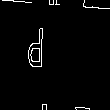P_S: (46, 29, 64, 81)
